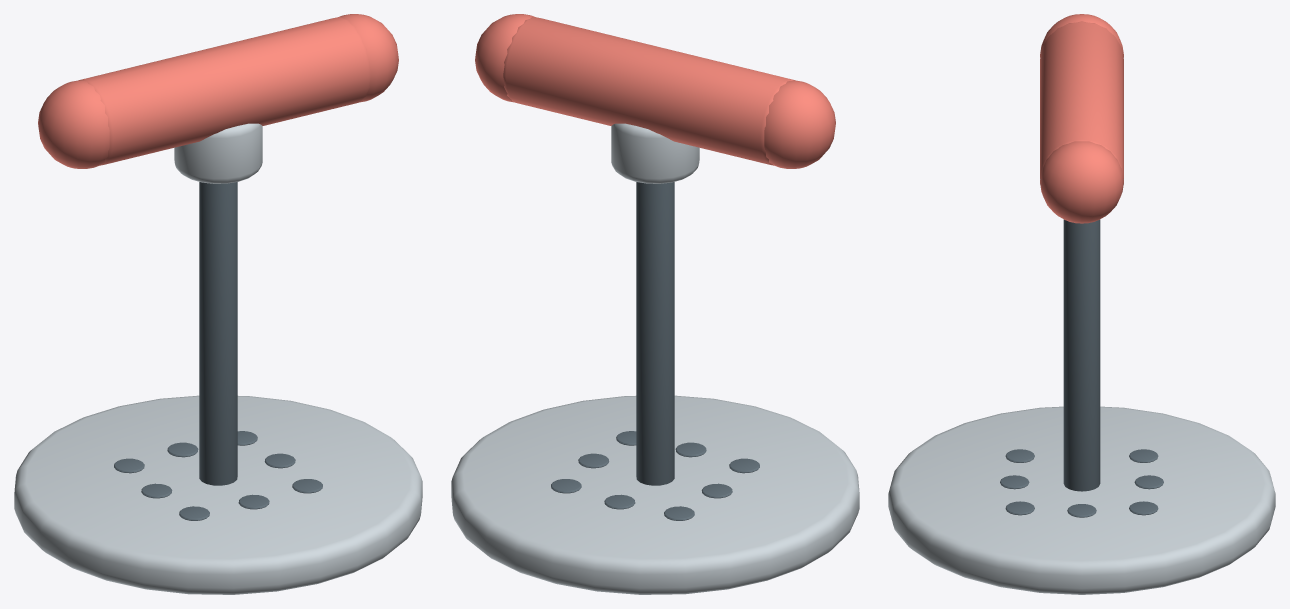
Rendered from Masher.glb.
3 views of the same model, side by side, from view 1: azimuth 30°, elevation 25°; view 2: azimuth 150°, elevation 25°; view 3: azimuth 270°, elevation 25° (orthographic). The views are drawn at different scales.
Visible parts, largest first — view 1: Masher_Plate, Masher_Handle, Masher_Shaft, Masher_Handle_Left, Masher_Collar, Masher_Handle_Right; view 2: Masher_Plate, Masher_Handle, Masher_Shaft, Masher_Handle_Left, Masher_Collar, Masher_Handle_Right; view 3: Masher_Plate, Masher_Shaft, Masher_Handle, Masher_Handle_Right, Masher_Handle_Left.
Part boxes in pixels (<box>): Masher_Plate: <box>14,395,422,594</box>; Masher_Handle: <box>78,17,370,165</box>; Masher_Shaft: <box>199,182,237,485</box>; Masher_Handle_Left: <box>38,80,109,168</box>; Masher_Collar: <box>174,123,262,183</box>; Masher_Handle_Right: <box>339,14,398,102</box>; Masher_Plate: <box>451,395,859,594</box>; Masher_Handle: <box>503,17,795,165</box>; Masher_Shaft: <box>636,182,674,485</box>; Masher_Handle_Left: <box>764,80,835,168</box>; Masher_Collar: <box>611,123,699,183</box>; Masher_Handle_Right: <box>475,14,534,102</box>; Masher_Plate: <box>888,406,1275,594</box>; Masher_Shaft: <box>1063,219,1100,491</box>; Masher_Handle: <box>1040,21,1123,178</box>; Masher_Handle_Right: <box>1040,141,1123,223</box>; Masher_Handle_Left: <box>1040,14,1123,57</box>.
Bounding box in the file's own units: 2.76 × 3.49 × 2.76.
